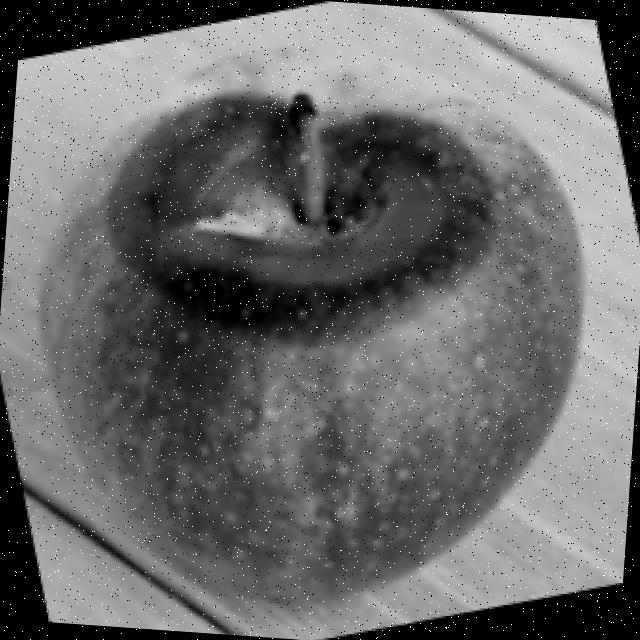Rotten: (9, 30, 604, 625)
